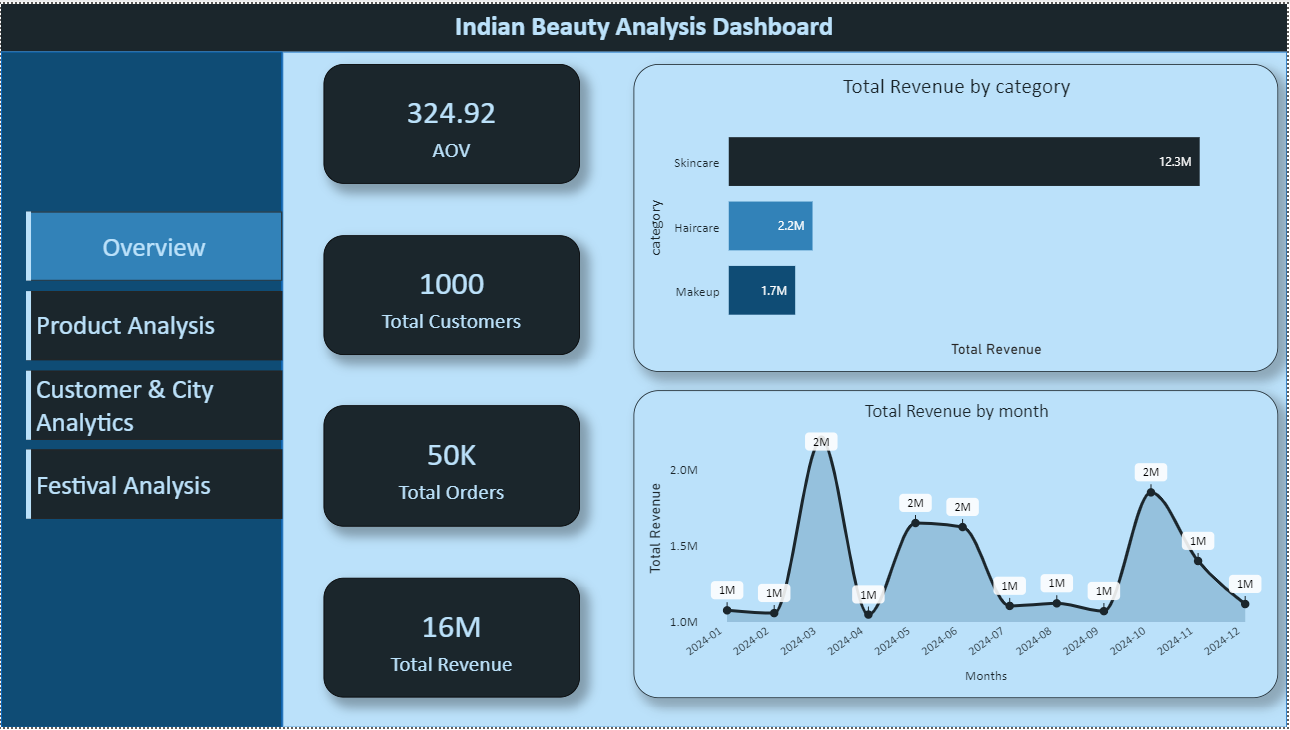

The page's visual inventory and layout, read from the dashboard file:
{"tool":"powerbi","page":{"name":"Overview","canvas":[1280,720],"ordinal":0},"visuals":[{"type":"shape","box":[279.9,47.3,1000.1,673],"z":0},{"type":"textbox","box":[0,0,1280,47.3],"z":1000},{"type":"card","fields":{"Values":["KPI & Measures.Total Revenue"]},"box":[320.6,571,255,119.4],"z":2000},{"type":"card","fields":{"Values":["KPI & Measures.AOV"]},"box":[320.6,59.7,255,119.4],"z":3000},{"type":"card","fields":{"Values":["KPI & Measures.Total Customers"]},"box":[320.6,229.7,255,119.4],"z":4000},{"type":"card","fields":{"Values":["KPI & Measures.Total Orders"]},"box":[320.6,399.7,255,120.7],"z":5000},{"type":"lineChart","title":"Total Revenue by month","fields":{"Category":["sales_encriched.year_month"],"Y":["KPI & Measures.Total Revenue"]},"box":[629.4,384.4,641.9,306],"z":6000},{"type":"barChart","fields":{"Category":["sales_encriched.category"],"Y":["KPI & Measures.Total Revenue"]},"box":[629.4,59.7,641.9,306],"z":7000},{"type":"shape","box":[0,47.3,279.9,673],"z":8000},{"type":"pageNavigator","box":[24.9,206.5,255,306],"z":9000}]}

Visuals, with their boxes in screenshot pixels (x1, y1, x2, y2), scaled from the page's 1280x720 canvas onto the 1290x730 screenshot:
shape: [282, 48, 1289, 729]
textbox: [0, 0, 1289, 48]
card - KPI & Measures.Total Revenue: [323, 579, 580, 700]
card - KPI & Measures.AOV: [323, 61, 580, 182]
card - KPI & Measures.Total Customers: [323, 233, 580, 354]
card - KPI & Measures.Total Orders: [323, 405, 580, 528]
"Total Revenue by month" lineChart: [634, 390, 1281, 700]
barChart - sales_encriched.category x KPI & Measures.Total Revenue: [634, 61, 1281, 371]
shape: [0, 48, 282, 729]
pageNavigator: [25, 209, 282, 520]
